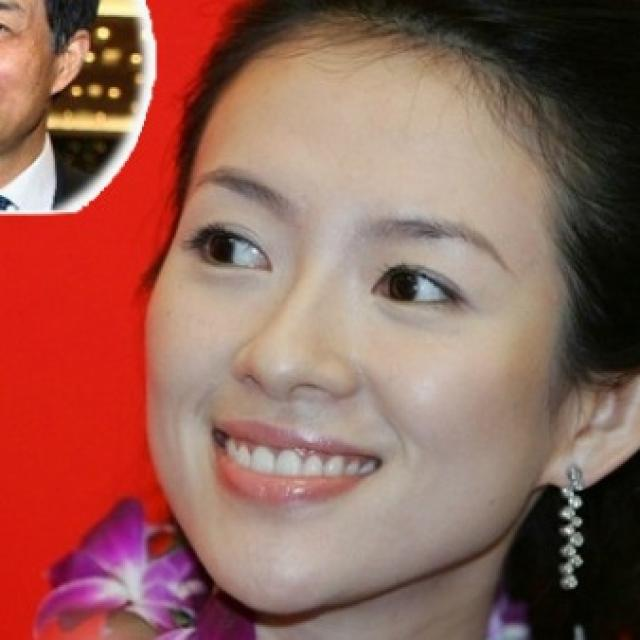Normal: (145, 26, 582, 621)
